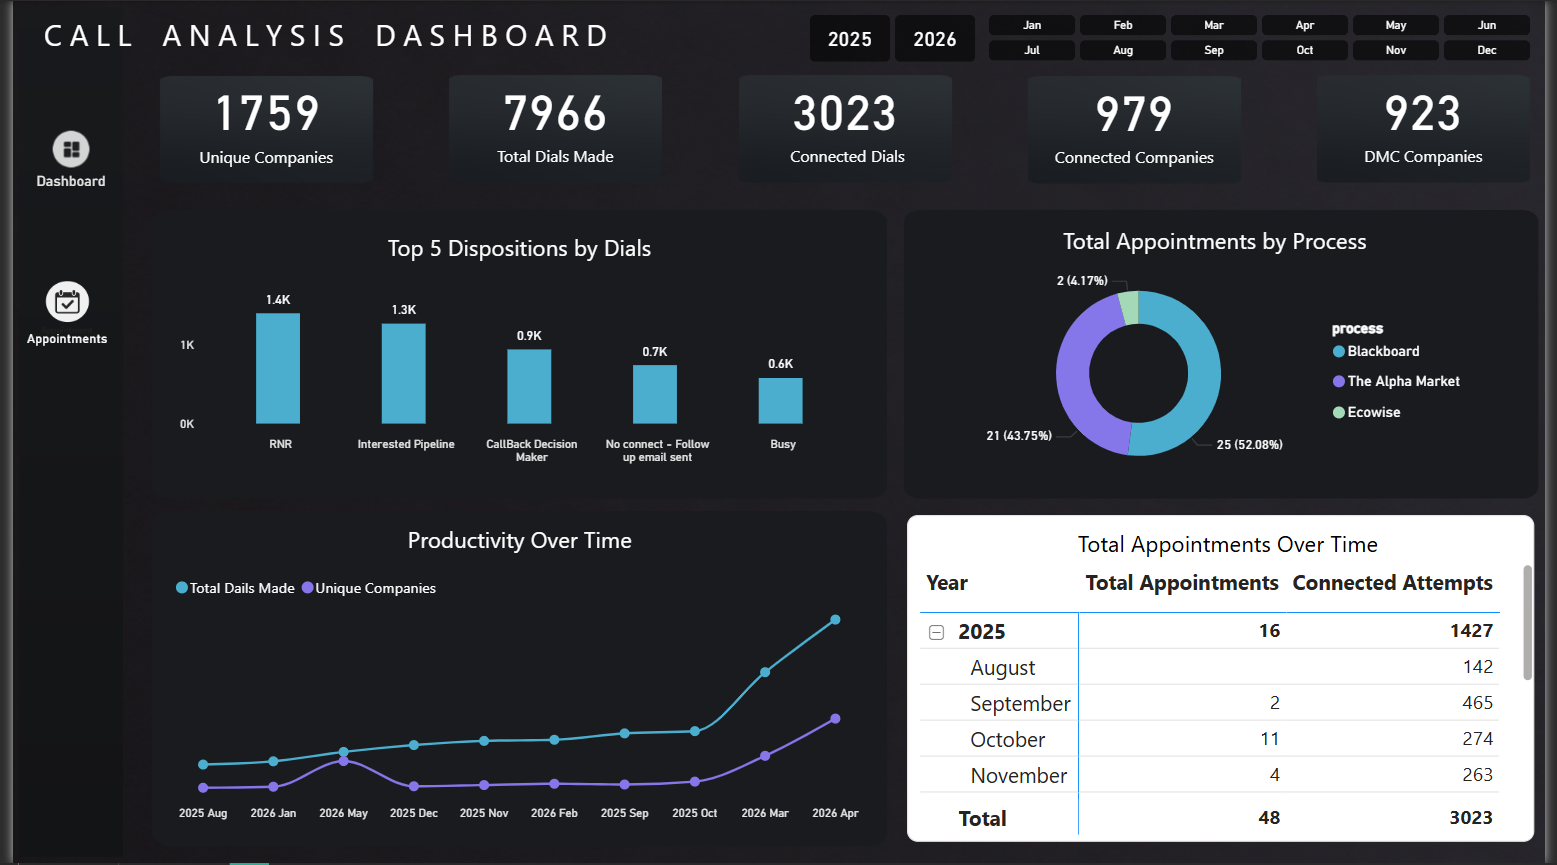

What the dashboard file says about the page in this screenshot:
{"tool":"powerbi","page":{"name":"Dashboard","canvas":[1280,720],"ordinal":0},"visuals":[{"type":"image","box":[0,0,97,720],"z":0},{"type":"image","box":[359.3,57.2,187.6,99.7],"z":0,"group":"g4"},{"type":"image","box":[601,57.2,187.6,99.7],"z":0,"group":"g5"},{"type":"image","box":[1084.5,57.2,187.6,99.7],"z":0,"group":"g7"},{"type":"image","box":[842.8,57.4,187.6,99.7],"z":0,"group":"g6"},{"type":"image","box":[117.6,57.6,187.6,99.1],"z":0,"group":"g3"},{"type":"image","box":[111,169.3,623.6,251.1],"z":0,"group":"g1"},{"type":"image","box":[739.6,169.6,540.4,250.7],"z":0},{"type":"image","box":[111,421.3,623.5,289.7],"z":0,"group":"g2"},{"type":"advancedSlicerVisual","fields":{"Values":["Calendar.Month Name"]},"box":[810,6.4,462.7,50],"z":1000},{"type":"cardVisual","fields":{"Data":["_Measures.Total Dails Made"]},"box":[382.6,63.5,140.9,57.5],"z":1000,"group":"g4"},{"type":"cardVisual","fields":{"Data":["_Measures.Connected Attempts"]},"box":[624.3,63.5,140.9,57.5],"z":1000,"group":"g5"},{"type":"cardVisual","fields":{"Data":["_Measures.DMC Companies"]},"box":[1107.8,63.5,140.9,57.5],"z":1000,"group":"g7"},{"type":"cardVisual","fields":{"Data":["_Measures.Connected Companies"]},"box":[866.1,63.7,140.9,57.5],"z":1000,"group":"g6"},{"type":"cardVisual","fields":{"Data":["_Measures.Unique Companies"]},"box":[140.9,63.8,140.9,57.1],"z":1000,"group":"g3"},{"type":"textbox","box":[773.3,182.3,461,41.1],"z":1000,"group":"g9"},{"type":"textbox","box":[196.8,187.9,452,41],"z":1000,"group":"g1"},{"type":"lineChart","fields":{"Category":["Calendar.Year Month"],"Y":["_Measures.Total Dails Made","_Measures.Unique Companies"]},"box":[130.6,470.6,585.1,222.1],"z":1000,"group":"g2"},{"type":"advancedSlicerVisual","fields":{"Values":["Calendar.Year"]},"box":[660.9,6.4,149.1,50],"z":2000},{"type":"textbox","box":[371,120.9,164.3,22.4],"z":2000,"group":"g4"},{"type":"textbox","box":[612.7,120.9,164.3,22.4],"z":2000,"group":"g5"},{"type":"textbox","box":[1096.2,120.9,164.3,22.4],"z":2000,"group":"g7"},{"type":"textbox","box":[129.3,121,164.3,22.3],"z":2000,"group":"g3"},{"type":"textbox","box":[854.5,121.1,164.3,22.4],"z":2000,"group":"g6"},{"type":"donutChart","fields":{"Category":["Worksheet Data.process"],"Y":["_Measures.Total Appointments"]},"box":[773.3,215.6,449.4,191],"z":2000,"group":"g9"},{"type":"columnChart","fields":{"Category":["Worksheet Data.Disposition"],"Y":["_Measures.Total Dails Made"]},"box":[111,228.9,599.7,165.1],"z":2000,"group":"g1"},{"type":"textbox","box":[197,432.2,452.4,38.4],"z":2000,"group":"g2"},{"type":"textbox","box":[20.6,6.3,512.6,50.3],"z":3000},{"type":"actionButton","box":[0,79.9,97,96.1],"z":4000},{"type":"group","id":"g1","title":"Top 5 Disposition Bar Chart","box":[111,169.3,624.5,251.1],"z":5000},{"type":"group","id":"g2","title":"Trend Chart","box":[111,421.3,623.5,289.7],"z":6000},{"type":"group","id":"g3","title":"Unique Companies KPI","box":[117.6,57.6,187.6,99.7],"z":7000},{"type":"group","id":"g4","title":"Dails KPI","box":[359.3,57.2,187.6,100.5],"z":8000},{"type":"group","id":"g5","title":"Connected Dails","box":[601,57.2,187.6,100.5],"z":9000},{"type":"group","id":"g6","title":"Connected Companies","box":[842.8,57.4,187.6,100.2],"z":10000},{"type":"group","id":"g7","title":"DMC Companies KPI","box":[1084.5,57.2,187.6,100.5],"z":11000},{"type":"group","id":"g8","title":"Appointments Buttion","box":[0,188.5,90.7,140],"z":12000},{"type":"pivotTable","title":"Total Appointments Over Time","fields":{"Rows":["Calendar.Date.Variation.Date Hierarchy.Year","Calendar.Date.Variation.Date Hierarchy.Month"],"Values":["_Measures.Total Appointments","_Measures.Connected Attempts"]},"box":[746.9,429.1,524.3,272.9],"z":13000},{"type":"group","id":"g9","title":"Process Pie Chart","box":[773.3,182.3,461.4,224.4],"z":14000},{"type":"image","box":[0,188.5,90.7,140],"z":14000,"group":"g8"},{"type":"textbox","box":[0,271.1,90.7,24.2],"z":15000,"group":"g8"}]}

Visuals, with their boxes on the page's 1280x720 design canvas (x1, y1, x2, y2). These are canvas units, not pixel positions in the 1557x865 screenshot, which may show the page scaled, cropped or inside an application window:
image: region(0, 0, 97, 720)
image: region(359, 57, 547, 157)
image: region(601, 57, 789, 157)
image: region(1084, 57, 1272, 157)
image: region(843, 57, 1030, 157)
image: region(118, 58, 305, 157)
image: region(111, 169, 735, 420)
image: region(740, 170, 1280, 420)
image: region(111, 421, 734, 711)
advancedSlicerVisual - Calendar.Month Name: region(810, 6, 1273, 56)
cardVisual - _Measures.Total Dails Made: region(383, 64, 524, 121)
cardVisual - _Measures.Connected Attempts: region(624, 64, 765, 121)
cardVisual - _Measures.DMC Companies: region(1108, 64, 1249, 121)
cardVisual - _Measures.Connected Companies: region(866, 64, 1007, 121)
cardVisual - _Measures.Unique Companies: region(141, 64, 282, 121)
textbox: region(773, 182, 1234, 223)
textbox: region(197, 188, 649, 229)
lineChart - Calendar.Year Month x _Measures.Total Dails Made: region(131, 471, 716, 693)
advancedSlicerVisual - Calendar.Year: region(661, 6, 810, 56)
textbox: region(371, 121, 535, 143)
textbox: region(613, 121, 777, 143)
textbox: region(1096, 121, 1260, 143)
textbox: region(129, 121, 294, 143)
textbox: region(854, 121, 1019, 144)
donutChart - Worksheet Data.process x _Measures.Total Appointments: region(773, 216, 1223, 407)
columnChart - Worksheet Data.Disposition x _Measures.Total Dails Made: region(111, 229, 711, 394)
textbox: region(197, 432, 649, 471)
textbox: region(21, 6, 533, 57)
actionButton: region(0, 80, 97, 176)
"Top 5 Disposition Bar Chart" group: region(111, 169, 736, 420)
"Trend Chart" group: region(111, 421, 734, 711)
"Unique Companies KPI" group: region(118, 58, 305, 157)
"Dails KPI" group: region(359, 57, 547, 158)
"Connected Dails" group: region(601, 57, 789, 158)
"Connected Companies" group: region(843, 57, 1030, 158)
"DMC Companies KPI" group: region(1084, 57, 1272, 158)
"Appointments Buttion" group: region(0, 188, 91, 328)
"Total Appointments Over Time" pivotTable: region(747, 429, 1271, 702)
"Process Pie Chart" group: region(773, 182, 1235, 407)
image: region(0, 188, 91, 328)
textbox: region(0, 271, 91, 295)
